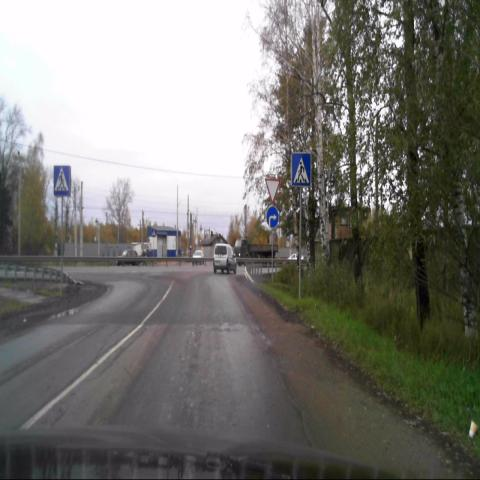4_1_2: (266, 205, 278, 229)
